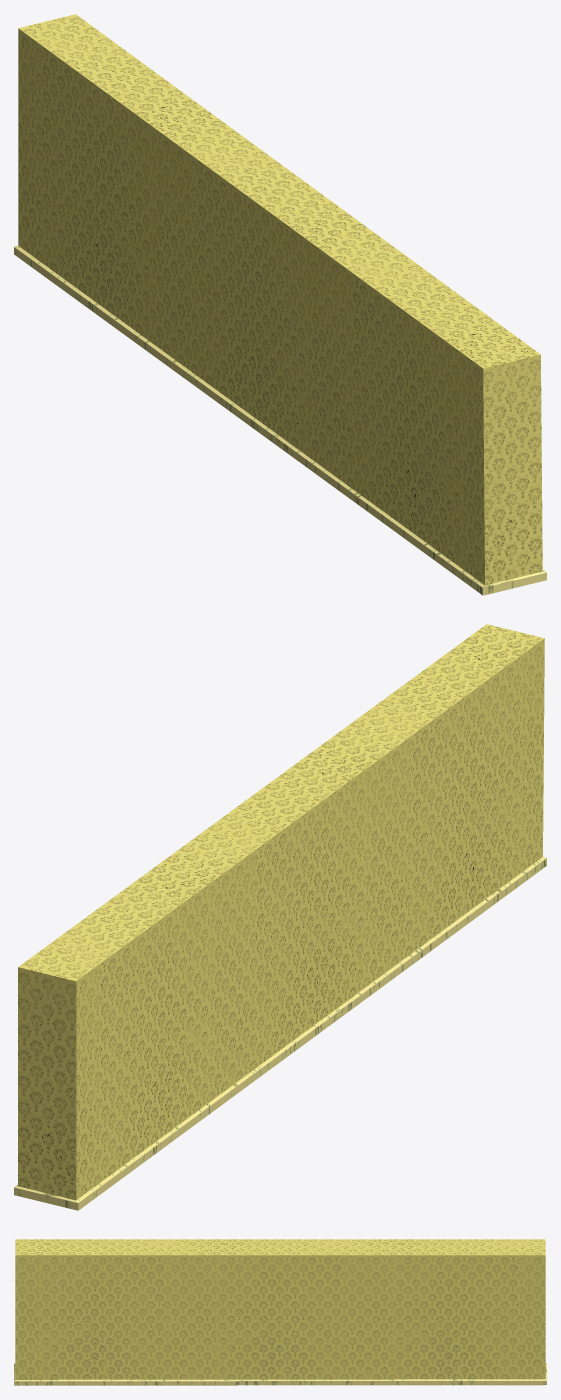
File: KatasL0Wall1.glb
The picture shows the model from 3 angles, top to bottom: view 1: azimuth 30°, elevation 25°; view 2: azimuth 150°, elevation 25°; view 3: azimuth 270°, elevation 25°; orthographic projection. The views are drawn at different scales.
Visible parts, largest first — view 1: Cube; view 2: Cube; view 3: Cube.
Part boxes in pixels (x1,y1,x2,y2): Cube: (14, 14, 546, 595); Cube: (14, 624, 546, 1210); Cube: (14, 1239, 546, 1385).
Size of the model in its own units: 2.29 by 7.49 by 28.05.
2 materials, 2 textured.
